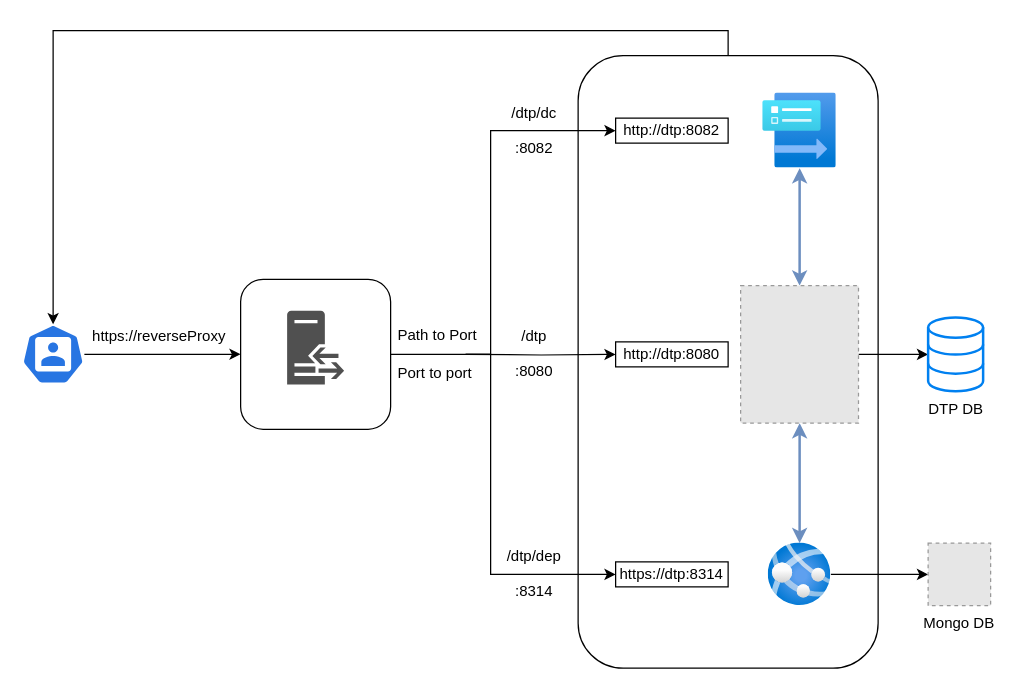
The diagram is 1016 pixels wide and 690 high, and some of its shapes have lost their labels. Grey dashed boxes stand in for pictures. Each missing label, with the centre of its shape:
"Data Collector" belongs at point 799,130.
"Extension Designer" belongs at point 799,573.
"Reverse Proxy" belongs at point 315,347.
